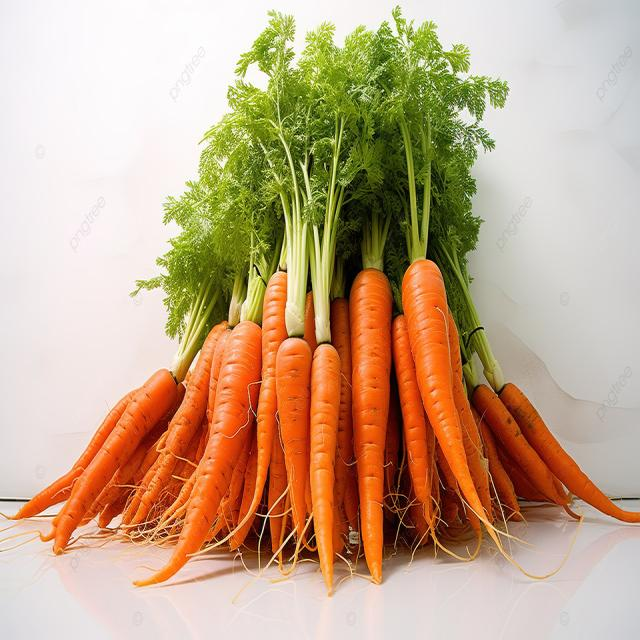Carrot: (349, 269, 395, 580), (310, 342, 342, 600)
